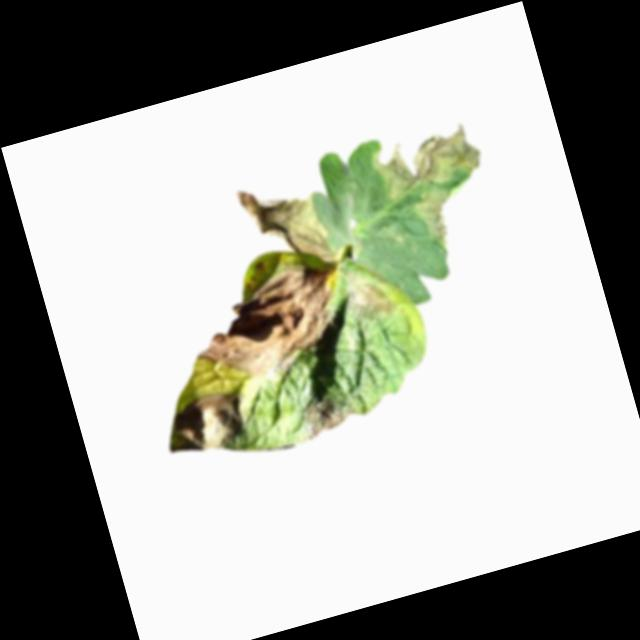Late_blight: (180, 258, 353, 393), (368, 117, 507, 264), (230, 164, 341, 281), (156, 385, 253, 462), (339, 262, 396, 326), (296, 388, 357, 441)
